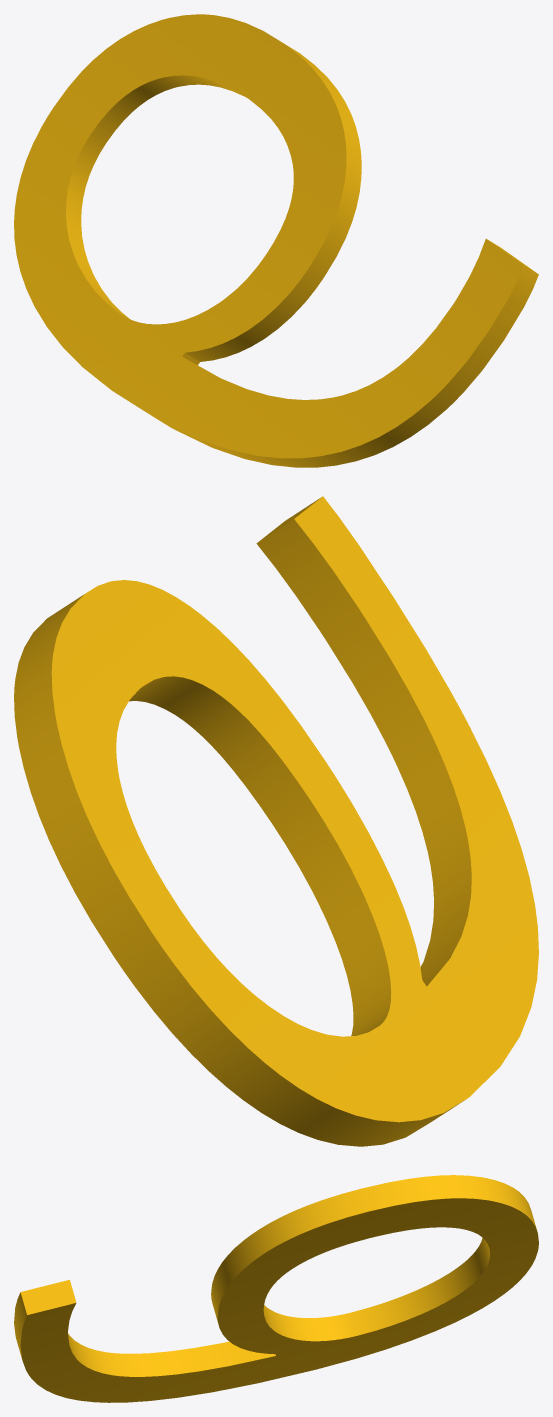
File: Number_9.gltf
3 views of the same model, one above another, from view 1: azimuth 30°, elevation 25°; view 2: azimuth 150°, elevation 25°; view 3: azimuth 270°, elevation 25° (orthographic). The views are drawn at different scales.
Visible parts, largest first — view 1: Sub_7_Cell_2_3_Number_9; view 2: Sub_7_Cell_2_3_Number_9; view 3: Sub_7_Cell_2_3_Number_9.
Part boxes in pixels (box(x1,y1,x2,y2)): Sub_7_Cell_2_3_Number_9: box(14, 14, 538, 467); Sub_7_Cell_2_3_Number_9: box(14, 496, 538, 1146); Sub_7_Cell_2_3_Number_9: box(14, 1175, 538, 1402).
Size of the model in its own units: 0.0139 by 0.0147 by 0.0253.
